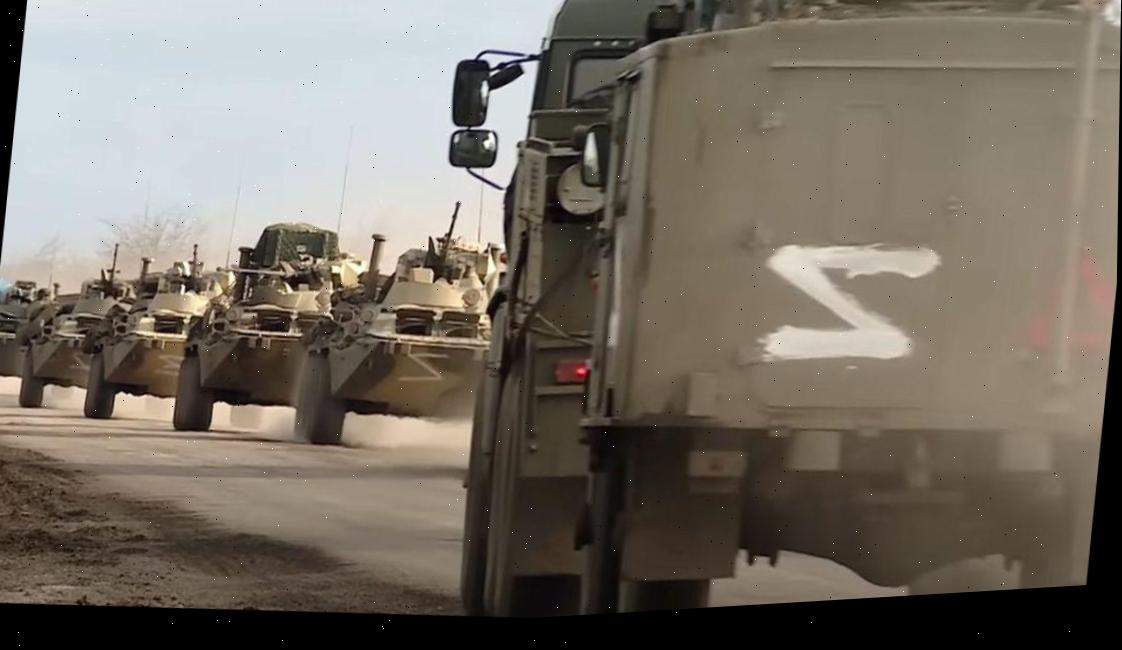tank: (300, 215, 509, 451), (169, 212, 358, 456), (77, 250, 193, 434), (9, 272, 97, 422)
truck: (474, 0, 1122, 621)
